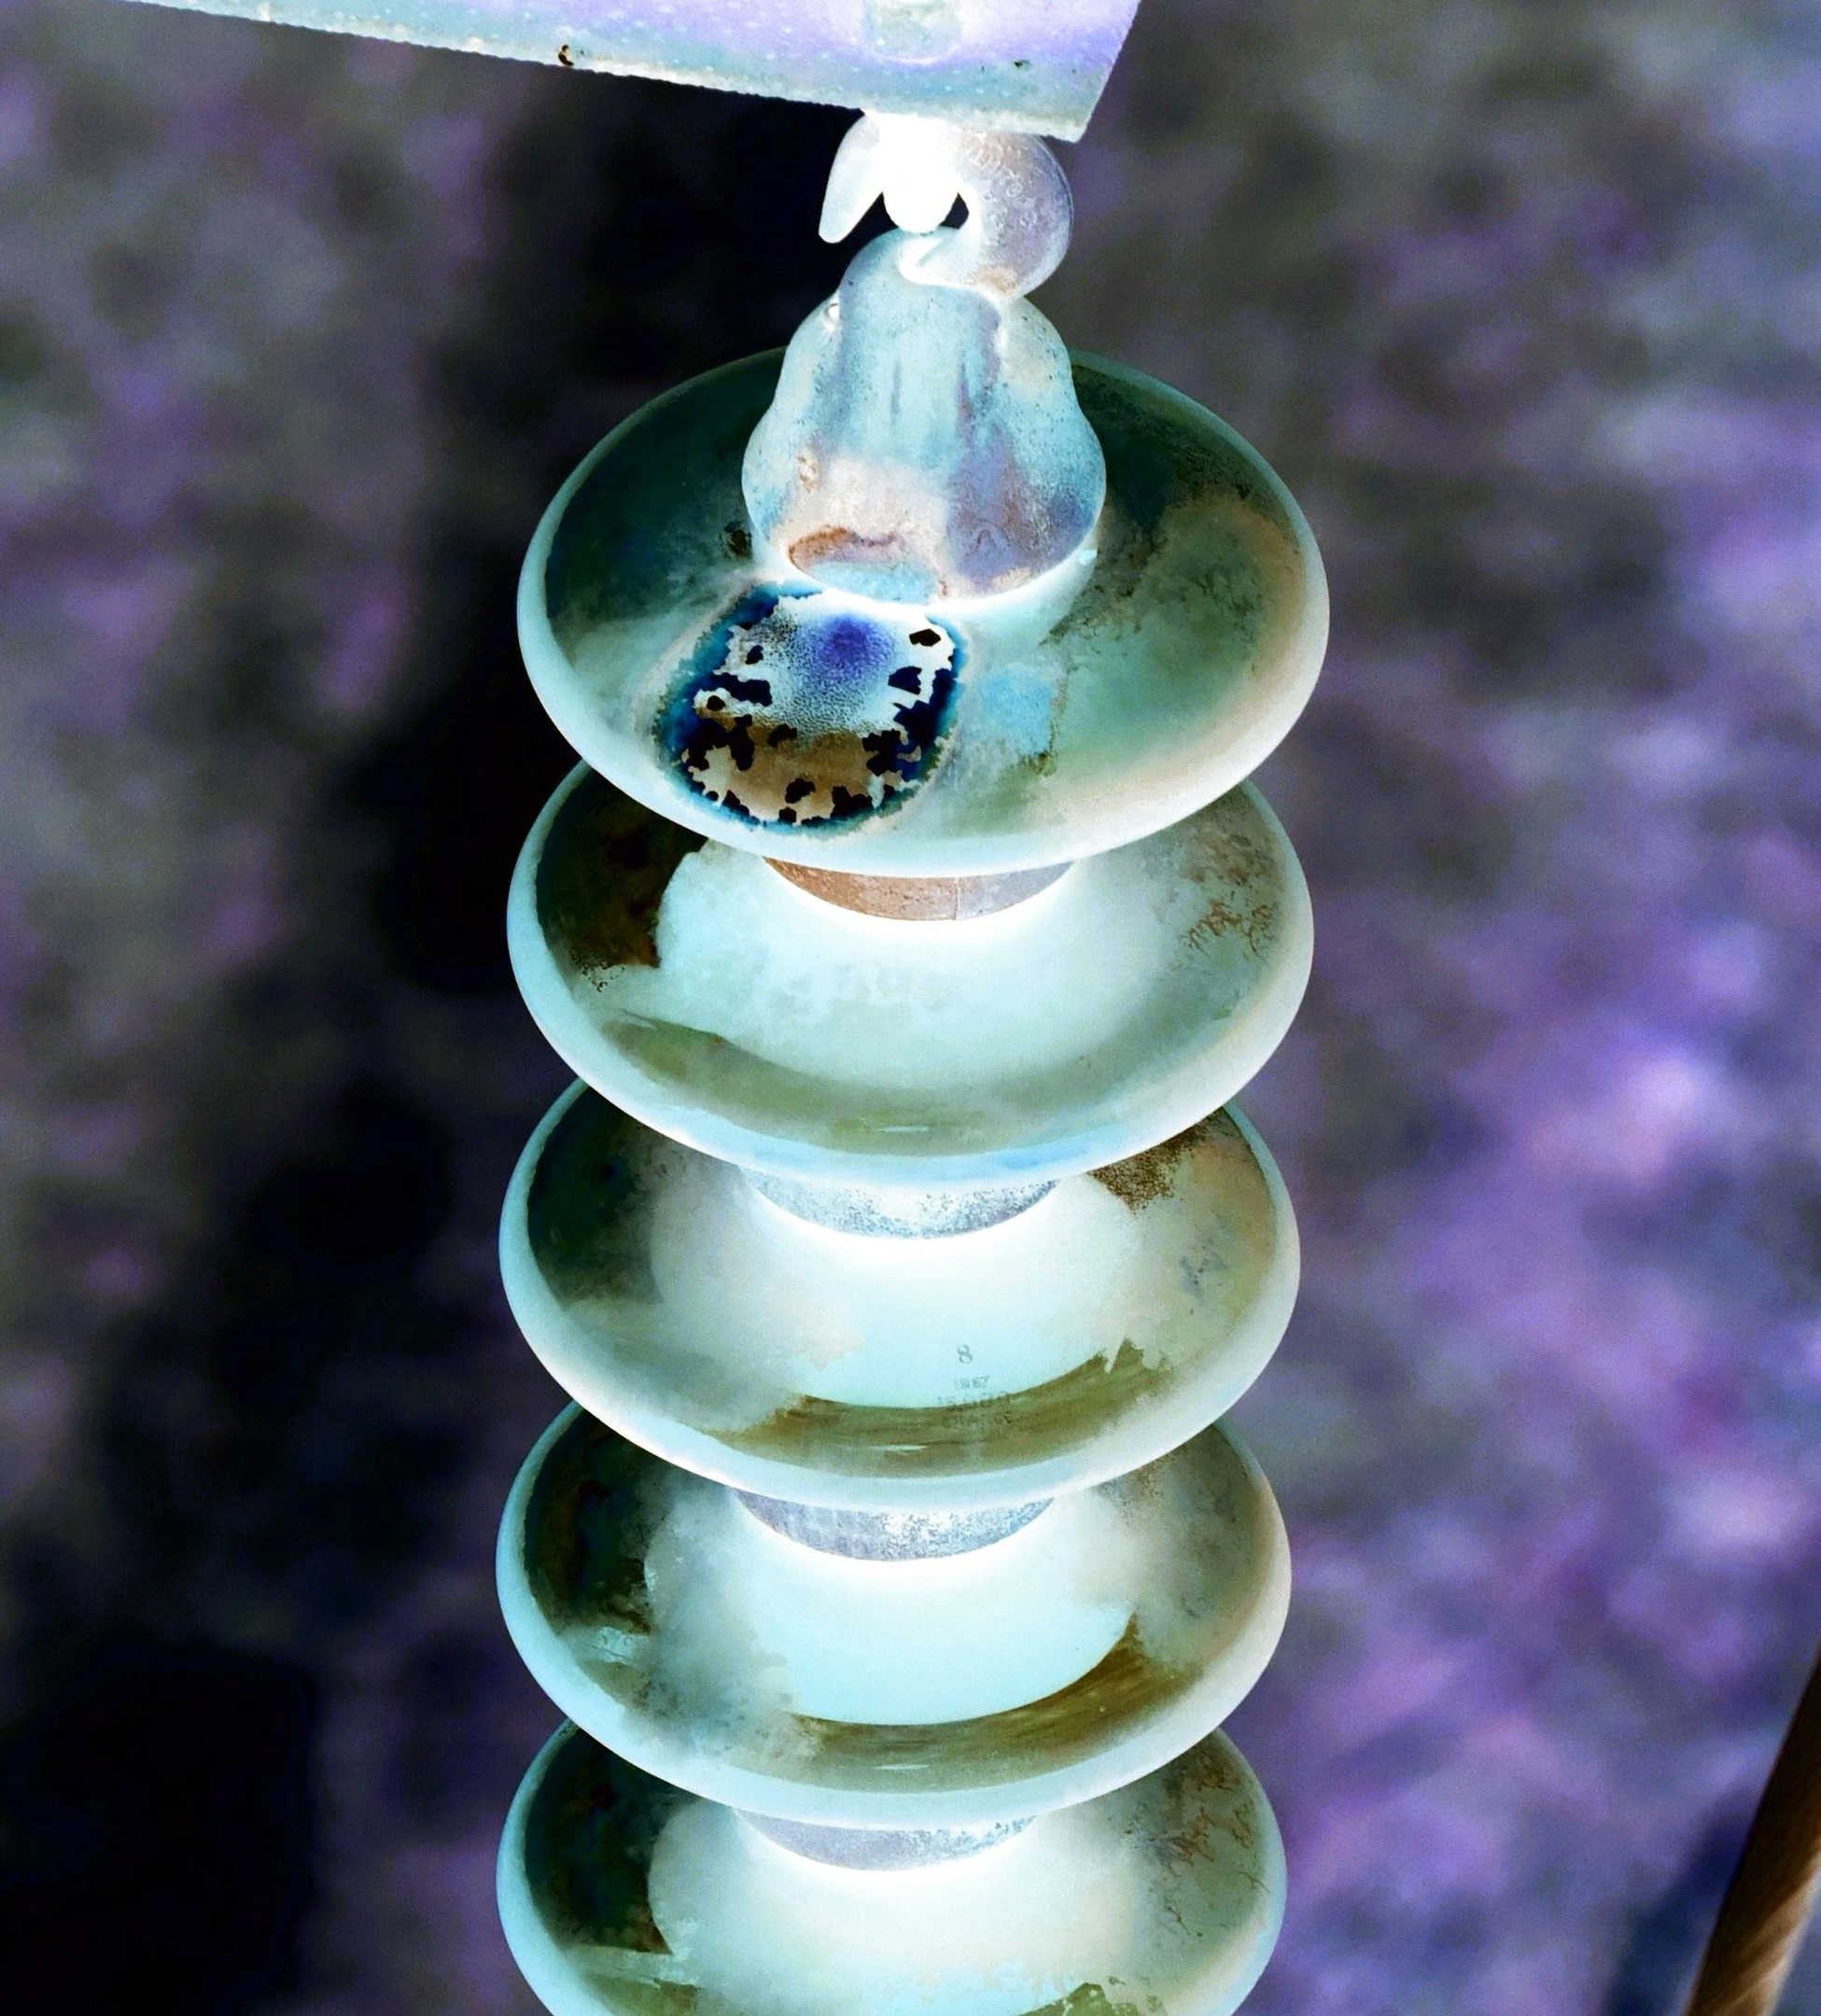Insulator flashover: (499, 334, 1350, 885)
